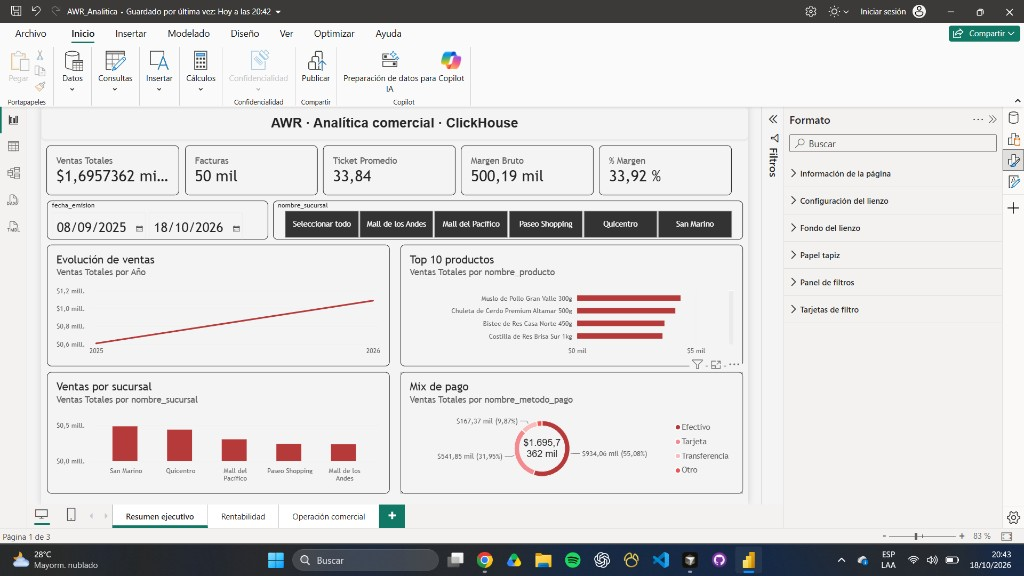

The dashboard page shown, as its layout file describes it:
{"tool":"powerbi","page":{"name":"Resumen ejecutivo","canvas":[1280,720],"ordinal":0},"visuals":[{"type":"textbox","box":[0,0,1280,60],"z":0},{"type":"cardVisual","fields":{"Data":["vw_ventas_analiticas.Ventas Totales"]},"box":[10,70,240,90],"z":1000},{"type":"cardVisual","fields":{"Data":["vw_ventas_analiticas.Facturas"]},"box":[260,70,240,90],"z":2000},{"type":"cardVisual","fields":{"Data":["vw_ventas_analiticas.Ticket Promedio"]},"box":[510,70,240,90],"z":3000},{"type":"cardVisual","fields":{"Data":["vw_ventas_analiticas.Margen Bruto"]},"box":[760,70,240,90],"z":4000},{"type":"cardVisual","fields":{"Data":["vw_ventas_analiticas.% Margen"]},"box":[1010,70,240,90],"z":5000},{"type":"slicer","fields":{"Values":["vw_ventas_analiticas.fecha_emision"]},"box":[10.4,170,400,70],"z":6000},{"type":"slicer","title":"Sucursal","fields":{"Values":["vw_ventas_analiticas.nombre_sucursal"]},"box":[420.2,170,850,70],"z":7000},{"type":"lineChart","title":"Evolución de ventas","fields":{"Category":["vw_ventas_analiticas.fecha_emision.Variation.Jerarquía de fechas.Año","vw_ventas_analiticas.fecha_emision.Variation.Jerarquía de fechas.Trimestre","vw_ventas_analiticas.fecha_emision.Variation.Jerarquía de fechas.Mes","vw_ventas_analiticas.fecha_emision.Variation.Jerarquía de fechas.Día"],"Y":["vw_ventas_analiticas.Ventas Totales"]},"box":[10.4,250,620,220],"z":8000},{"type":"clusteredBarChart","title":"Top 10 productos","fields":{"Category":["vw_ventas_analiticas.nombre_producto"],"Y":["vw_ventas_analiticas.Ventas Totales"]},"box":[650,250,620,220],"z":9000},{"type":"clusteredColumnChart","title":"Ventas por sucursal","fields":{"Category":["vw_ventas_analiticas.nombre_sucursal"],"Y":["vw_ventas_analiticas.Ventas Totales"]},"box":[10.4,480,620,220],"z":10000},{"type":"donutChart","title":"Mix de pago","fields":{"Category":["vw_ventas_analiticas.nombre_metodo_pago"],"Y":["vw_ventas_analiticas.Ventas Totales"]},"box":[650,480,620,220],"z":11000}]}

Visuals, with their boxes on the page's 1280x720 design canvas (x1, y1, x2, y2). These are canvas units, not pixel positions in the 1024x576 screenshot, which may show the page scaled, cropped or inside an application window:
textbox: box(0, 0, 1280, 60)
cardVisual - vw_ventas_analiticas.Ventas Totales: box(10, 70, 250, 160)
cardVisual - vw_ventas_analiticas.Facturas: box(260, 70, 500, 160)
cardVisual - vw_ventas_analiticas.Ticket Promedio: box(510, 70, 750, 160)
cardVisual - vw_ventas_analiticas.Margen Bruto: box(760, 70, 1000, 160)
cardVisual - vw_ventas_analiticas.% Margen: box(1010, 70, 1250, 160)
slicer - vw_ventas_analiticas.fecha_emision: box(10, 170, 410, 240)
"Sucursal" slicer: box(420, 170, 1270, 240)
"Evolución de ventas" lineChart: box(10, 250, 630, 470)
"Top 10 productos" clusteredBarChart: box(650, 250, 1270, 470)
"Ventas por sucursal" clusteredColumnChart: box(10, 480, 630, 700)
"Mix de pago" donutChart: box(650, 480, 1270, 700)
